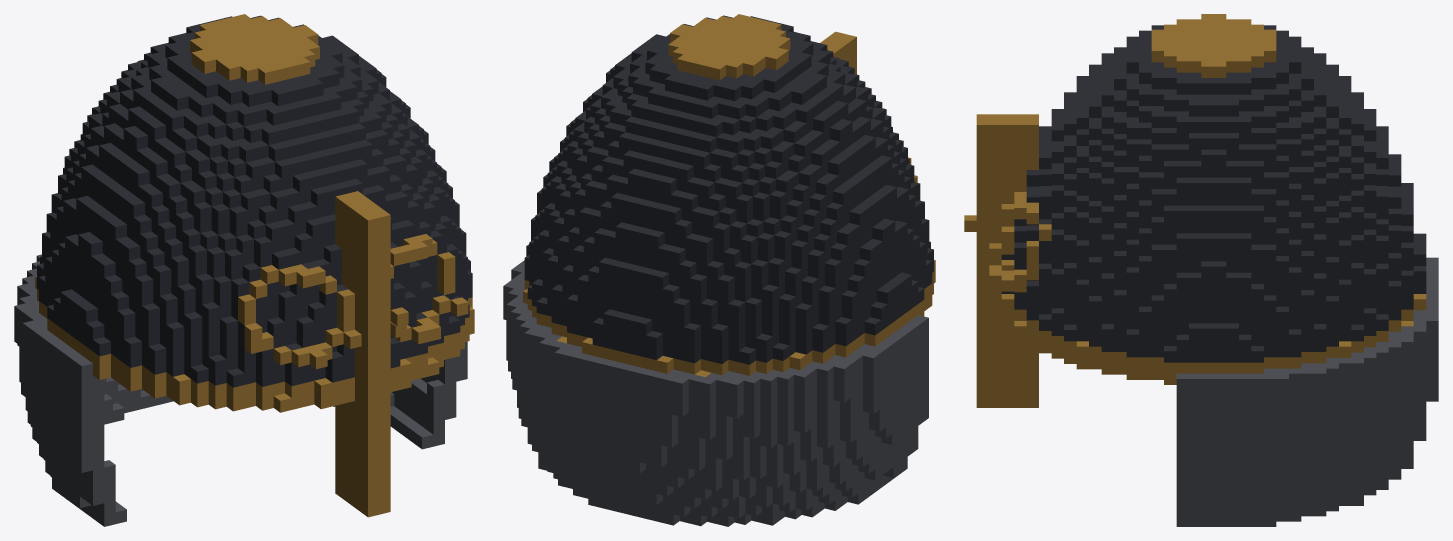
The model's file is nasal_helm.glb.
3 views of the same model, side by side, from view 1: azimuth 30°, elevation 25°; view 2: azimuth 150°, elevation 25°; view 3: azimuth 270°, elevation 25° (orthographic). The views are drawn at different scales.
Parts seen in each view (by area): view 1: nasal_helm; view 2: nasal_helm; view 3: nasal_helm.
Boxes of the visible parts, bbox=[...] form: nasal_helm: bbox=[14, 14, 474, 526]; nasal_helm: bbox=[503, 14, 935, 526]; nasal_helm: bbox=[964, 14, 1438, 526].
Bounding box in the file's own units: 0.408 × 0.432 × 0.456.
